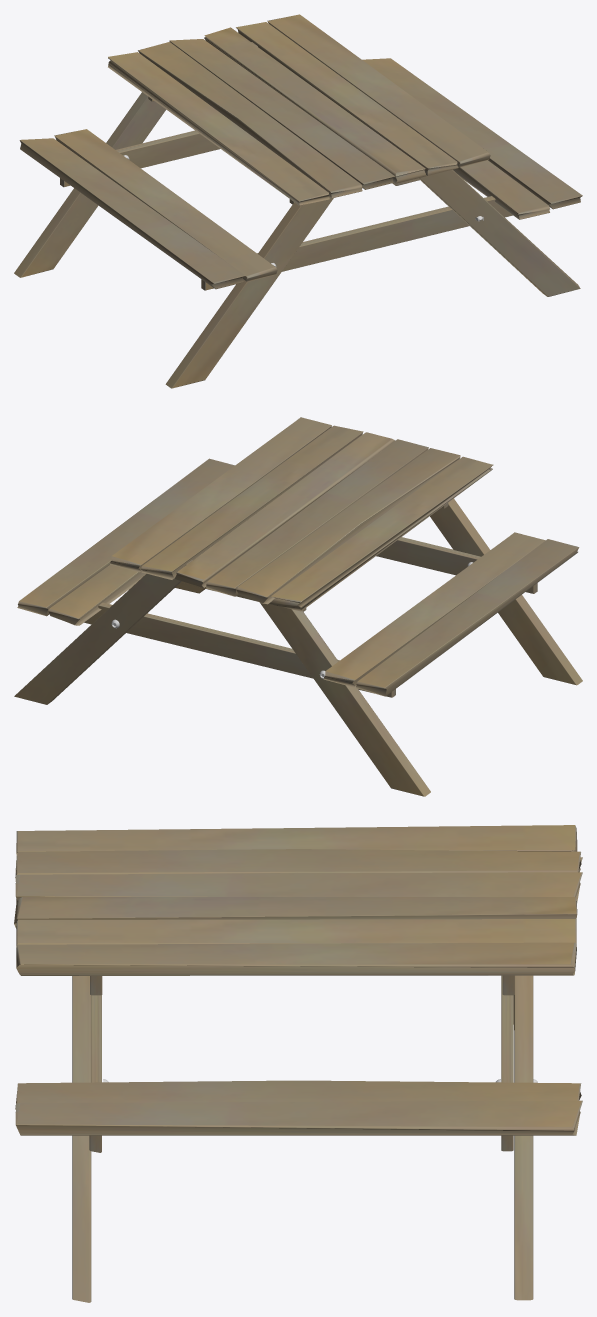
The model's file is Table.fbx.
3 views of the same model, one above another, from view 1: azimuth 30°, elevation 25°; view 2: azimuth 150°, elevation 25°; view 3: azimuth 270°, elevation 25° (orthographic). The views are drawn at different scales.
Visible parts, largest first — view 1: polySurface32, polySurface22, polySurface31, polySurface37, polySurface16, polySurface17, polySurface27, polySurface26, polySurface40, polySurface35, polySurface23, polySurface28 (+3 smaller); view 2: polySurface22, polySurface32, polySurface31, polySurface28, polySurface37, polySurface16, polySurface26, polySurface17, polySurface40, polySurface35, polySurface21, polySurface27 (+3 smaller); view 3: polySurface35, polySurface37, polySurface26, polySurface40, polySurface31, polySurface32, polySurface17, polySurface36, polySurface21, polySurface23, polySurface18, polySurface39.
Boxes of the visible parts, bbox=[...] form: polySurface32: bbox=[108, 52, 329, 205]; polySurface22: bbox=[19, 138, 245, 289]; polySurface31: bbox=[138, 42, 362, 198]; polySurface37: bbox=[267, 14, 490, 167]; polySurface16: bbox=[54, 129, 277, 281]; polySurface17: bbox=[204, 27, 426, 183]; polySurface27: bbox=[165, 197, 333, 388]; polySurface26: bbox=[236, 22, 458, 175]; polySurface40: bbox=[169, 39, 394, 189]; polySurface35: bbox=[362, 58, 582, 209]; polySurface23: bbox=[418, 169, 580, 296]; polySurface28: bbox=[14, 92, 166, 277]; polySurface22: bbox=[356, 539, 579, 696]; polySurface32: bbox=[270, 456, 493, 611]; polySurface31: bbox=[237, 448, 460, 604]; polySurface28: bbox=[260, 602, 430, 796]; polySurface37: bbox=[110, 417, 331, 572]; polySurface16: bbox=[323, 532, 545, 687]; polySurface26: bbox=[141, 425, 363, 579]; polySurface17: bbox=[175, 432, 395, 587]; polySurface40: bbox=[206, 439, 428, 596]; polySurface35: bbox=[17, 458, 234, 616]; polySurface21: bbox=[14, 560, 192, 704]; polySurface27: bbox=[430, 498, 582, 685]; polySurface35: bbox=[15, 1100, 582, 1135]; polySurface37: bbox=[16, 942, 576, 975]; polySurface26: bbox=[16, 919, 576, 947]; polySurface40: bbox=[15, 872, 582, 902]; polySurface31: bbox=[15, 849, 581, 878]; polySurface32: bbox=[16, 825, 577, 860]; polySurface17: bbox=[14, 897, 577, 928]; polySurface36: bbox=[15, 1080, 581, 1109]; polySurface21: bbox=[514, 975, 533, 1300]; polySurface23: bbox=[72, 976, 91, 1302]; polySurface18: bbox=[501, 975, 513, 1151]; polySurface39: bbox=[89, 995, 101, 1152].
Size of the model in its own units: 2754 by 1151 by 2258.
Materials: 2 (1 with a texture image).
